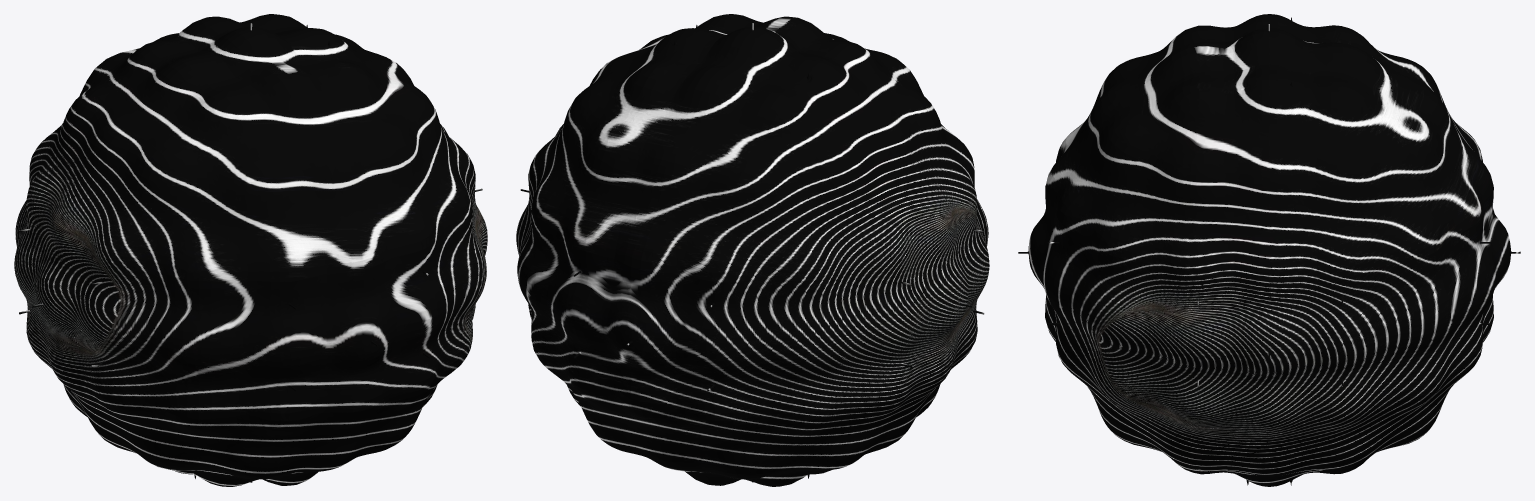
Rendered from ball.glb.
3 renders of one model, left to right at view 1: azimuth 30°, elevation 25°; view 2: azimuth 150°, elevation 25°; view 3: azimuth 270°, elevation 25°, orthographic.
Size of the model in its own units: 1.9 by 1.9 by 1.9.
Materials: 2 (1 with a texture image).
